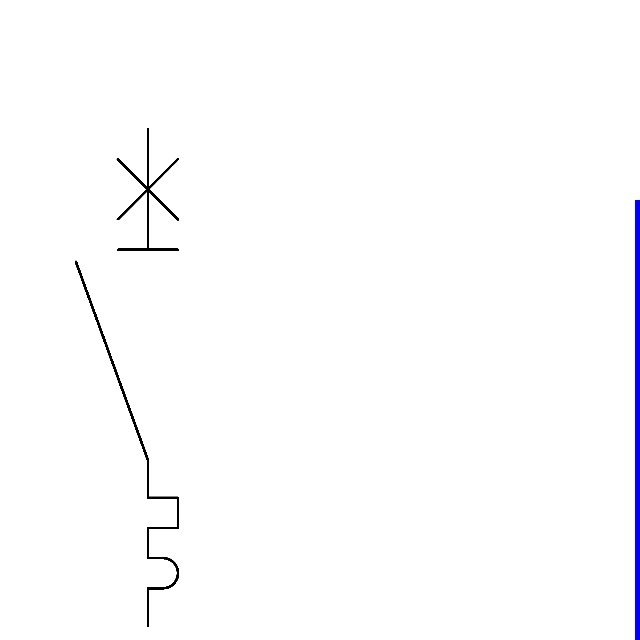interruptor_termomagnetico: (63, 116, 191, 639)
